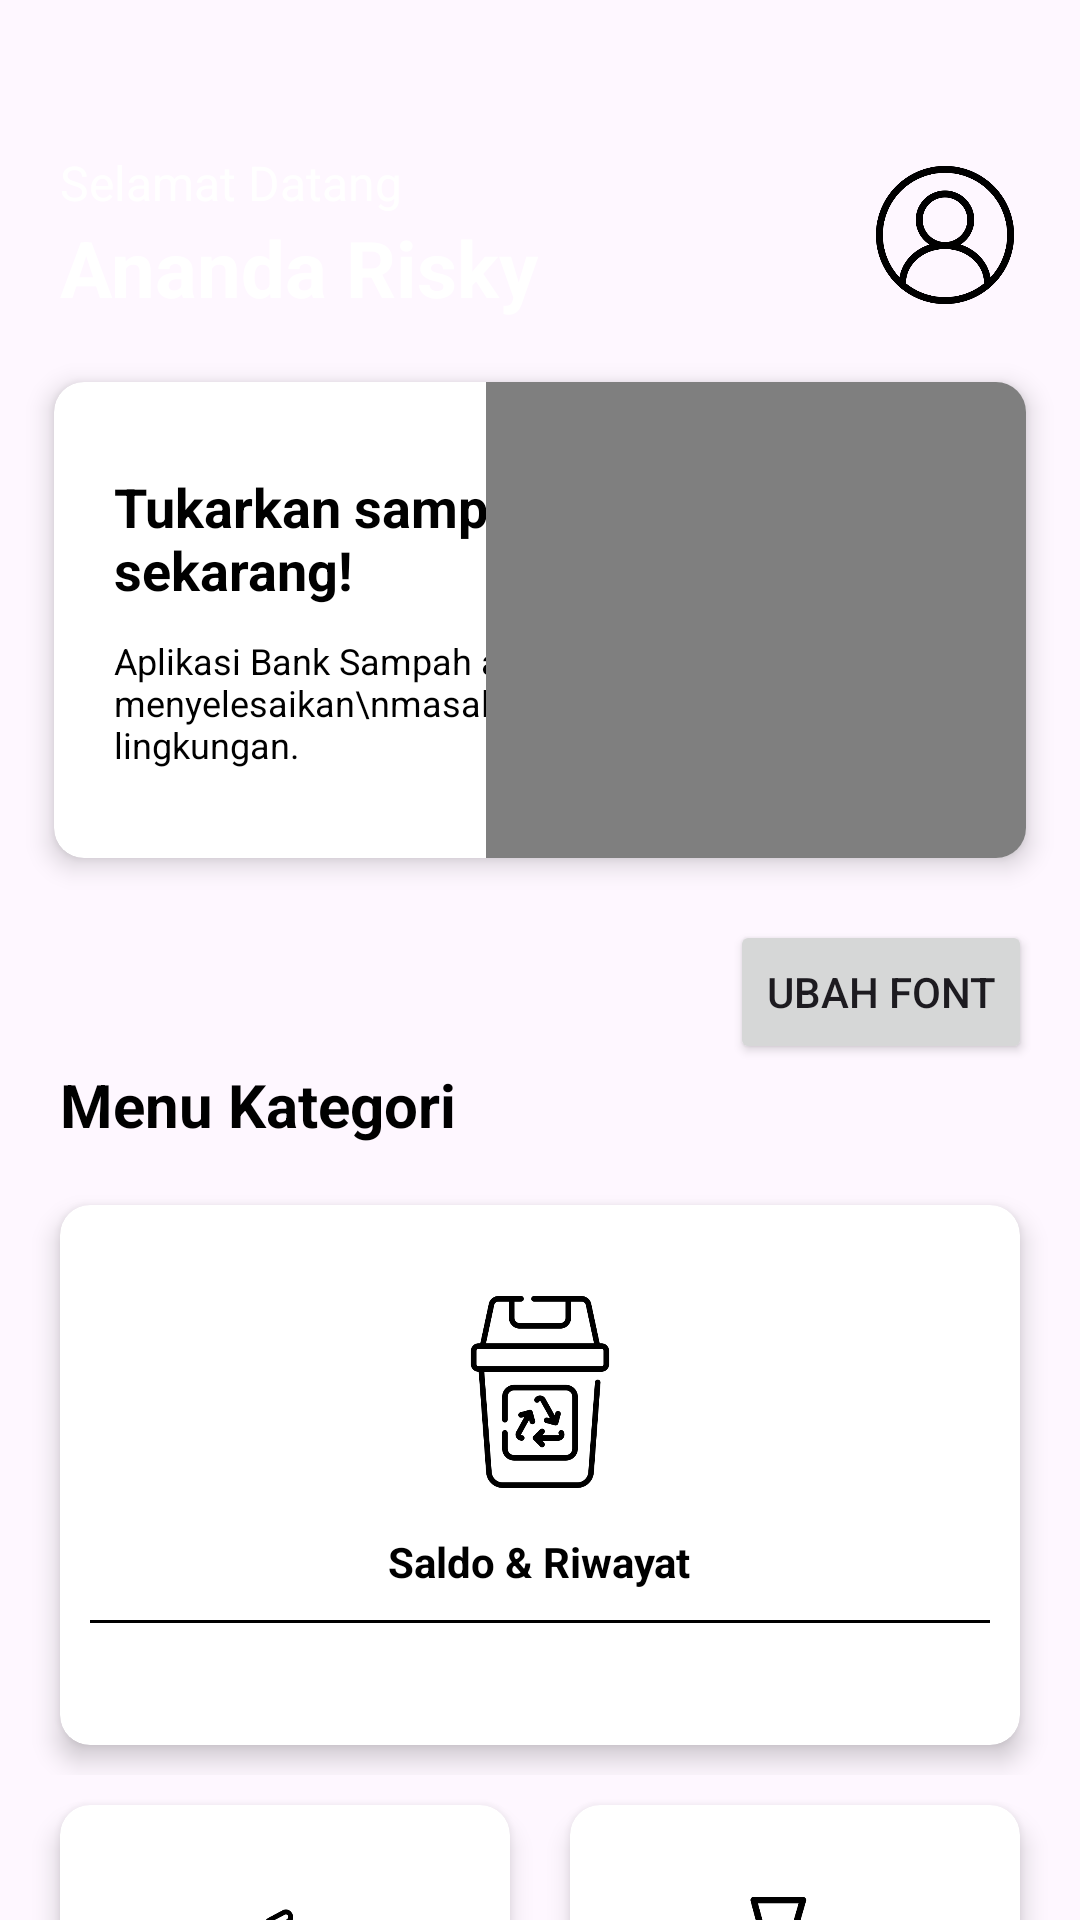

Screen size 1080px x 1920px. Icon name, then its box in pixels as {"left": x1, "top": y1, "right": x2, "bottom": y2}:
trash: {"left": 471, "top": 1296, "right": 609, "bottom": 1488}
user: {"left": 876, "top": 166, "right": 1014, "bottom": 304}
